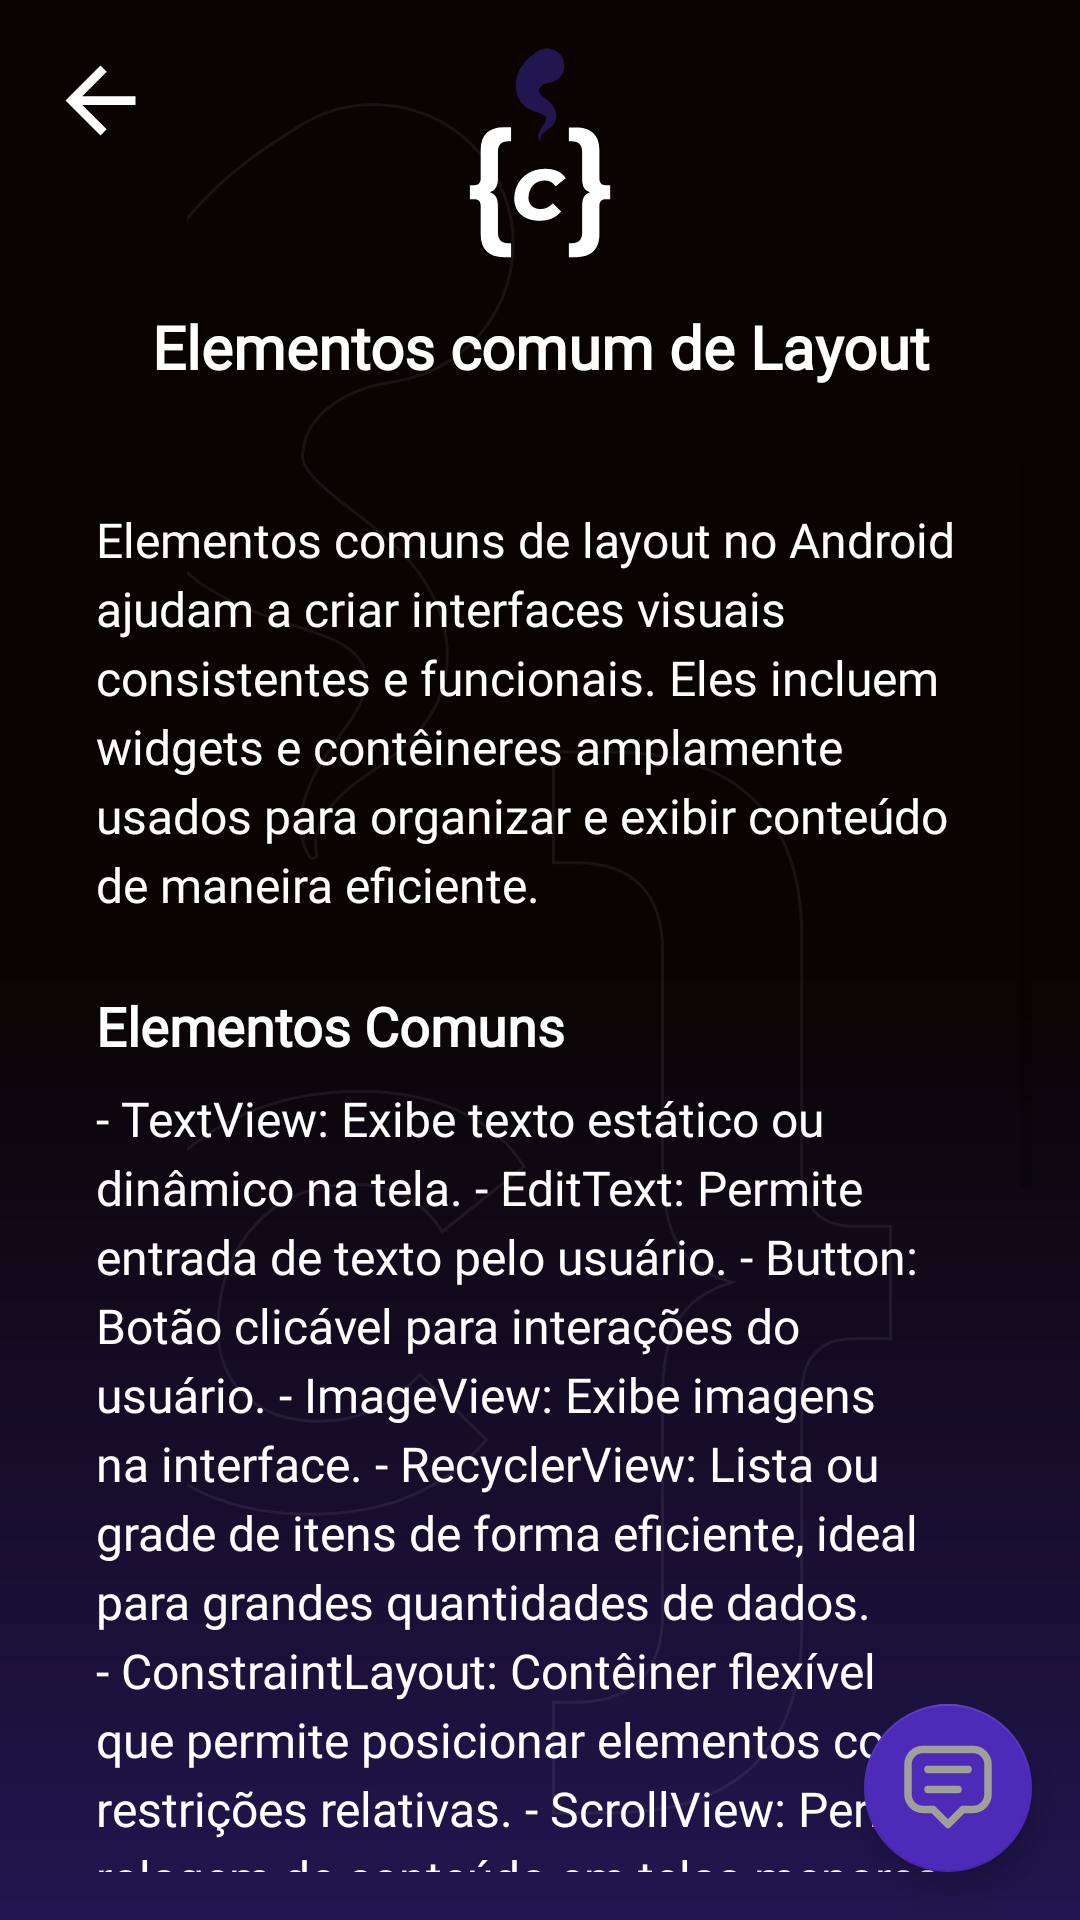

Icon bounding boxes for this 1080 × 1920 phone screenshot, format (x1, y1, x2, y2):
Botão para abrir o chat de IA: (864, 1704, 1032, 1872)
Voltar: (65, 65, 136, 136)
